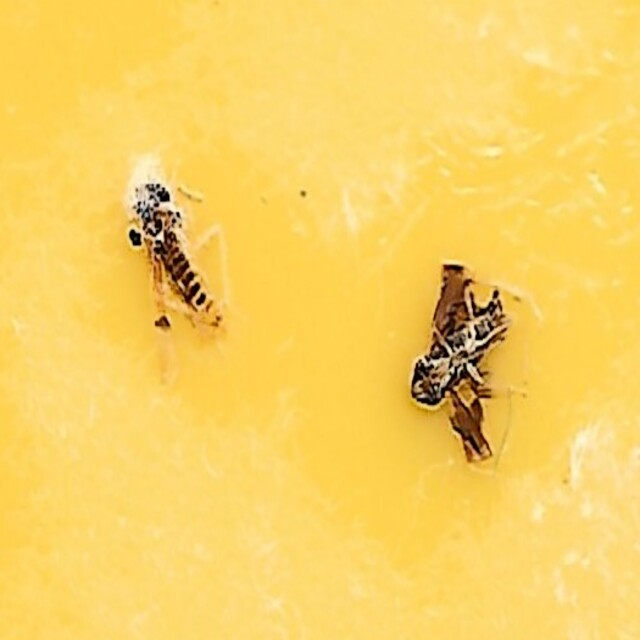Hemiptera: (405, 258, 518, 465), (122, 175, 235, 377)
